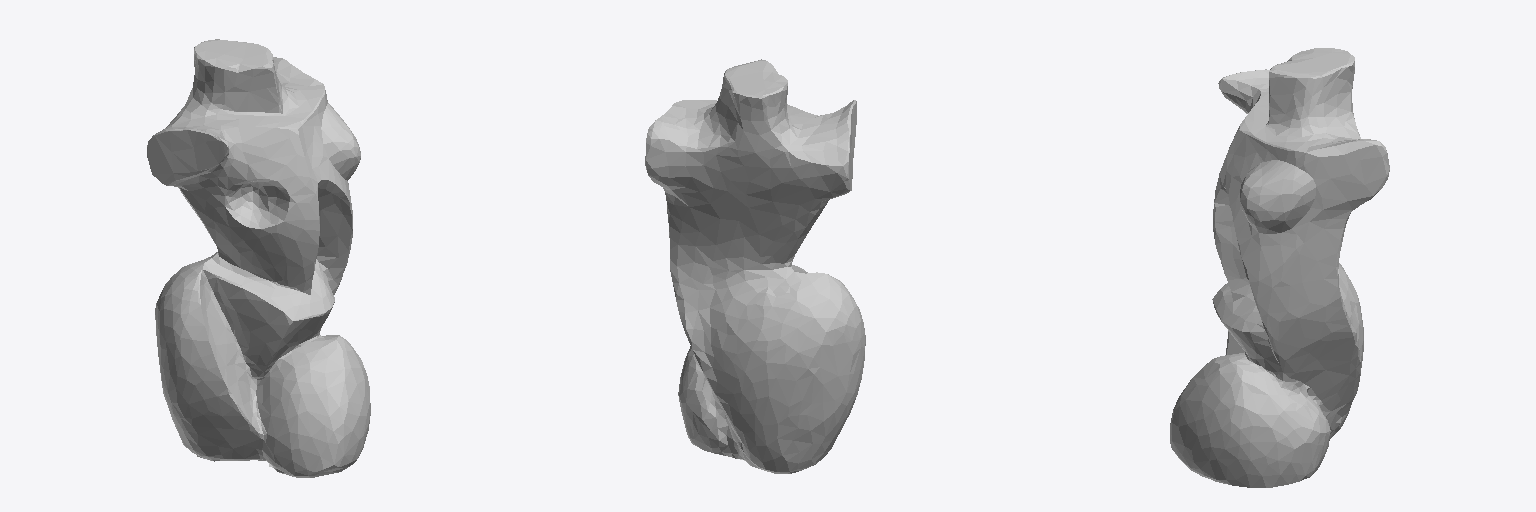
The model's file is Elegance_in_Stone_1102171426_texture.obj.
3 views of the same model, side by side, from view 1: azimuth 30°, elevation 25°; view 2: azimuth 150°, elevation 25°; view 3: azimuth 270°, elevation 25° (orthographic).
Visible parts, largest first — view 1: Elegance_in_Stone_[number redacted]_texture; view 2: Elegance_in_Stone_[number redacted]_texture; view 3: Elegance_in_Stone_[number redacted]_texture.
Boxes of the visible parts, box(x1,y1,x2,y2) form: Elegance_in_Stone_[number redacted]_texture: box(147, 39, 370, 477); Elegance_in_Stone_[number redacted]_texture: box(645, 59, 865, 473); Elegance_in_Stone_[number redacted]_texture: box(1170, 48, 1389, 487).
Size of the model in its own units: 0.9897 by 1.92 by 1.